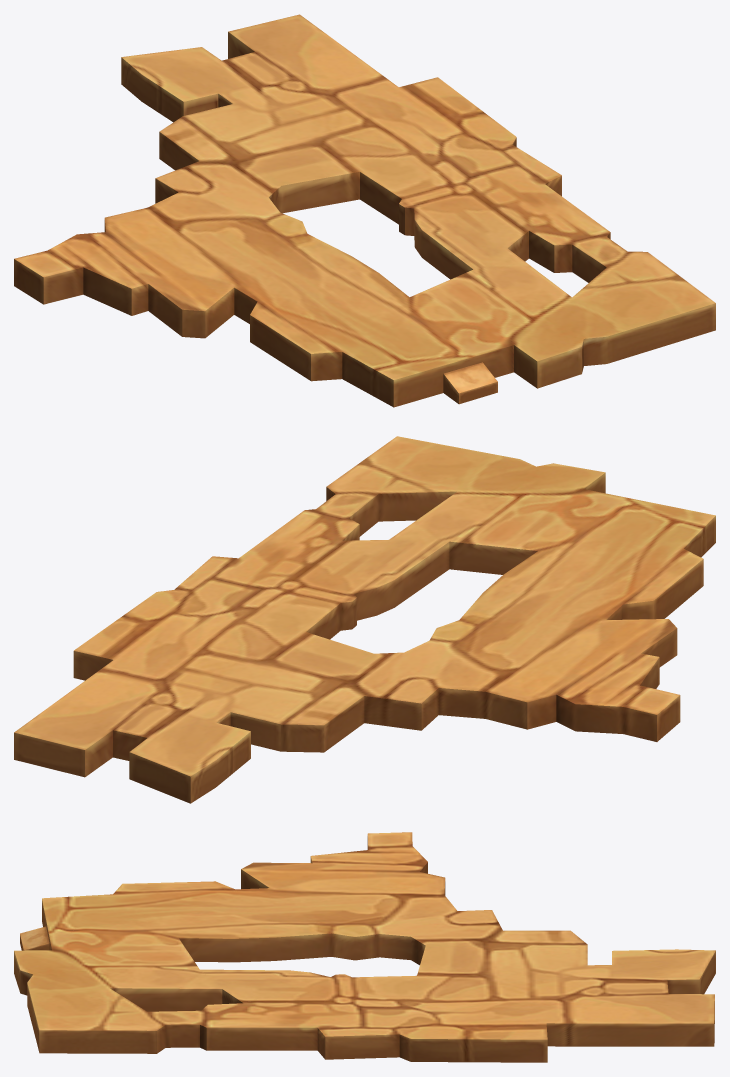
The model's file is Stage_ShaMo_ShiBan02.FBX.
3 views of the same model, one above another, from view 1: azimuth 30°, elevation 25°; view 2: azimuth 150°, elevation 25°; view 3: azimuth 270°, elevation 25° (orthographic). The views are drawn at different scales.
Parts seen in each view (by area): view 1: Stage_ShaMo_ShiBan02; view 2: Stage_ShaMo_ShiBan02; view 3: Stage_ShaMo_ShiBan02.
Part boxes in pixels (box(x1,y1,x2,y2)): Stage_ShaMo_ShiBan02: box(14, 14, 715, 407); Stage_ShaMo_ShiBan02: box(14, 436, 715, 803); Stage_ShaMo_ShiBan02: box(14, 832, 715, 1062).
Bounding box in the file's own units: 441 × 23.52 × 631.
